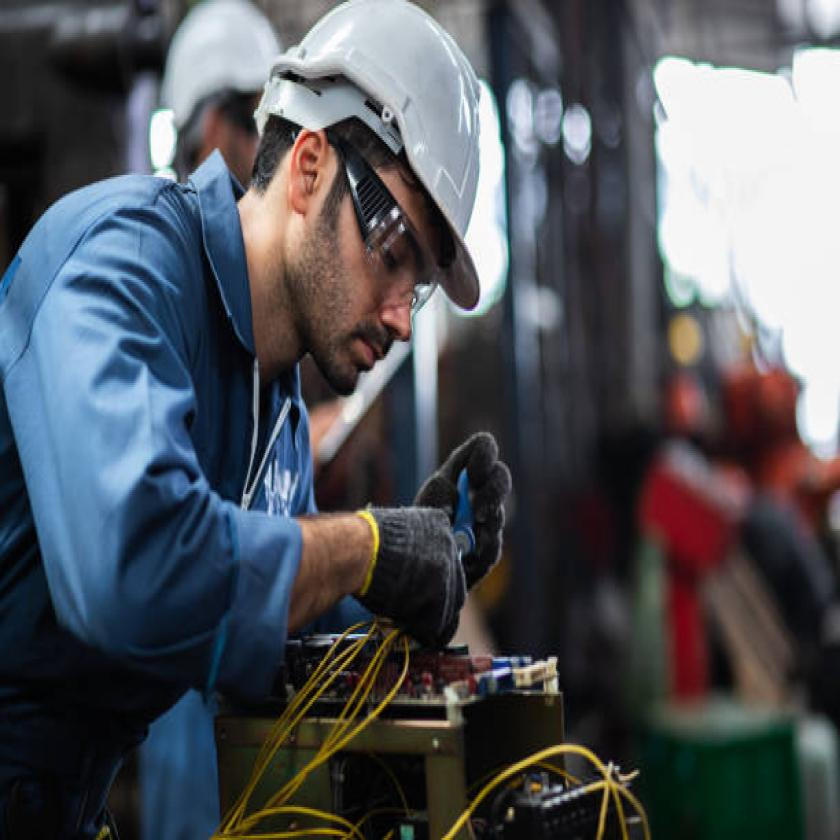Con_casco: (251, 2, 503, 384)
